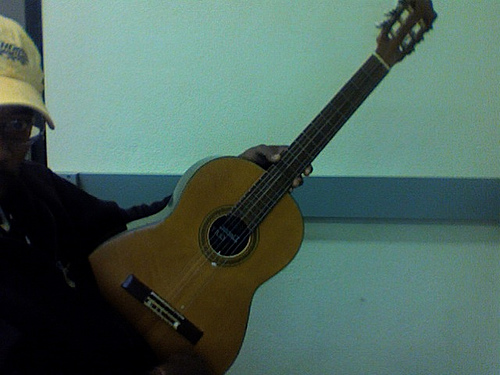guitar: (90, 152, 312, 370)
